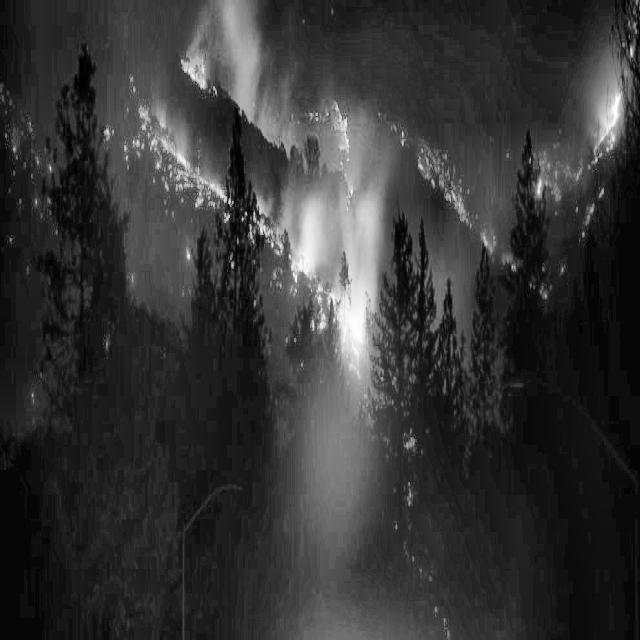fire: (394, 102, 546, 340), (123, 91, 239, 292), (282, 212, 386, 404), (564, 72, 639, 268), (303, 53, 372, 224), (182, 3, 234, 198)
